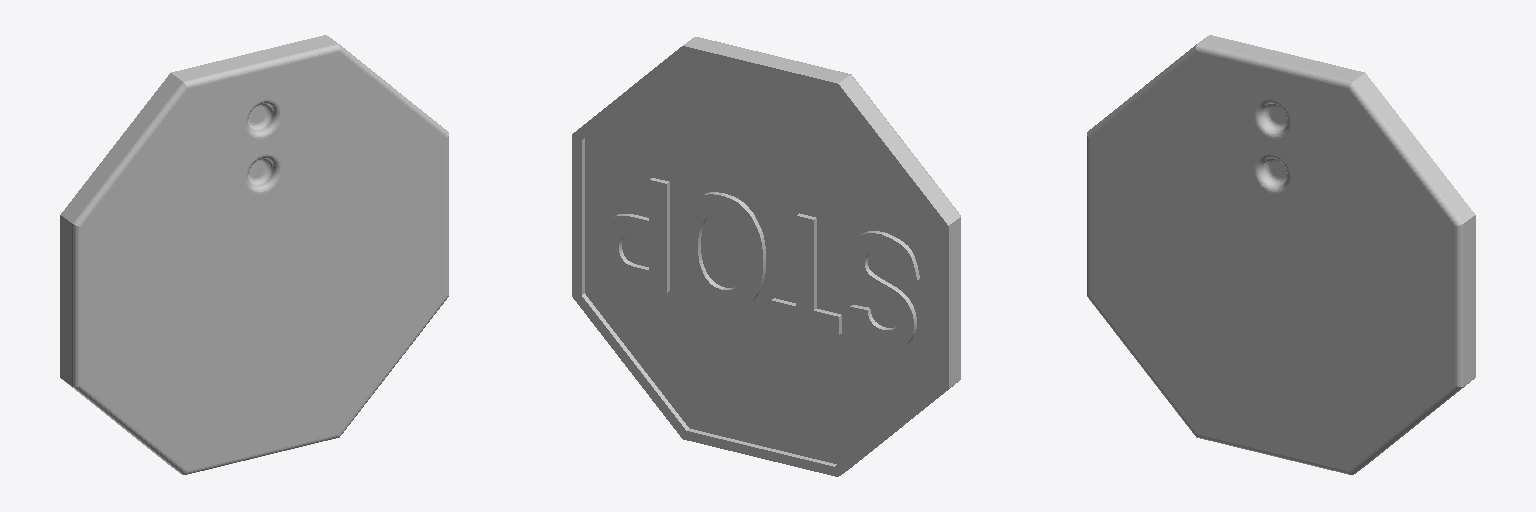
The model's file is Stop Sign, Sign only.obj.
The picture shows the model from 3 angles: view 1: azimuth 30°, elevation 25°; view 2: azimuth 150°, elevation 25°; view 3: azimuth 330°, elevation 25°; orthographic projection.
Parts seen in each view (by area): view 1: Body14, Body11; view 2: Body14, Body11, Body12, Body13, Body10, Body1; view 3: Body14, Body11.
Part boxes in pixels (x1,y1,x2,y2): Body14: (63, 37, 448, 474); Body11: (60, 35, 328, 464); Body14: (585, 37, 960, 473); Body11: (572, 44, 951, 476); Body12: (680, 192, 765, 309); Body13: (848, 231, 919, 348); Body10: (601, 178, 669, 292); Body1: (771, 213, 841, 334); Body14: (1087, 37, 1472, 474); Body11: (1207, 35, 1475, 464).
Size of the model in its own units: 0.0914 by 0.0914 by 0.0063.